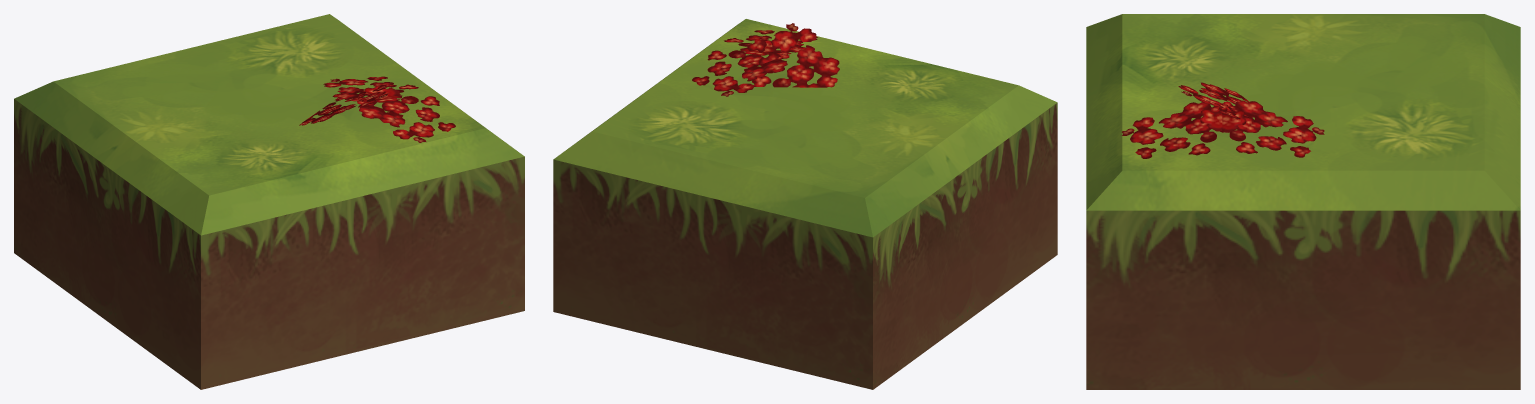
File: tile_final5.FBX
3 renders of one model, left to right at view 1: azimuth 30°, elevation 25°; view 2: azimuth 150°, elevation 25°; view 3: azimuth 270°, elevation 25°, orthographic. The views are drawn at different scales.
Visible parts, largest first — view 1: Prefab9; view 2: Prefab9; view 3: Prefab9.
Part boxes in pixels (<box>): Prefab9: <box>14,14,524,389</box>; Prefab9: <box>553,19,1057,389</box>; Prefab9: <box>1086,14,1520,389</box>.
Bounding box in the file's own units: 24.96 × 15.76 × 24.96.
Materials: 2 (2 with a texture image).
